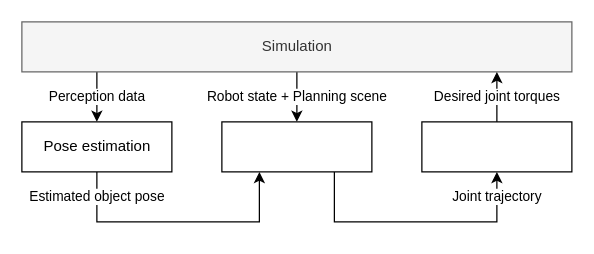
Some shapes in this 594 by 254 pixel diagram are drawn without their labels. The centre of each missing label's shape, as x and y in pixels:
Motion planning: (x=296, y=146)
Robot controller: (x=496, y=146)
